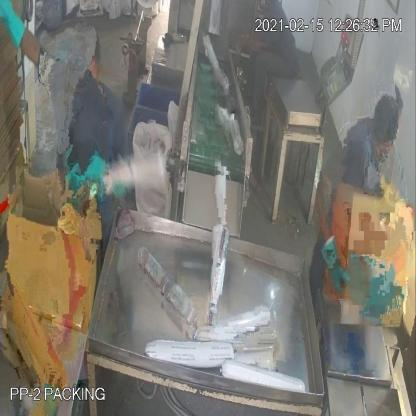no_glove: (233, 28, 268, 57)
